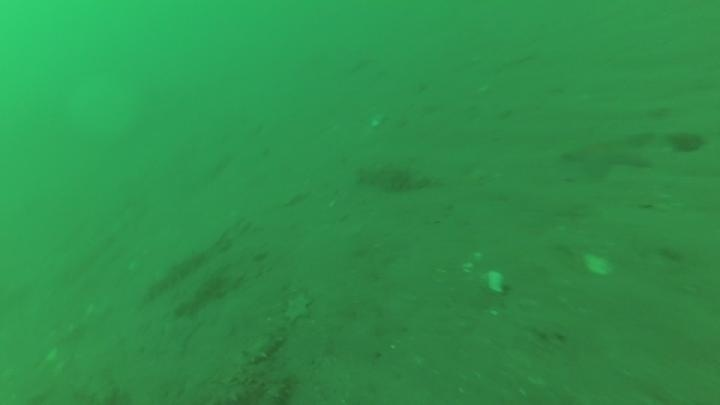holothurian: (143, 246, 208, 303), (353, 158, 439, 196), (171, 276, 229, 318), (234, 326, 288, 371), (232, 361, 288, 393)
starfish: (559, 127, 654, 183), (280, 289, 316, 327)
